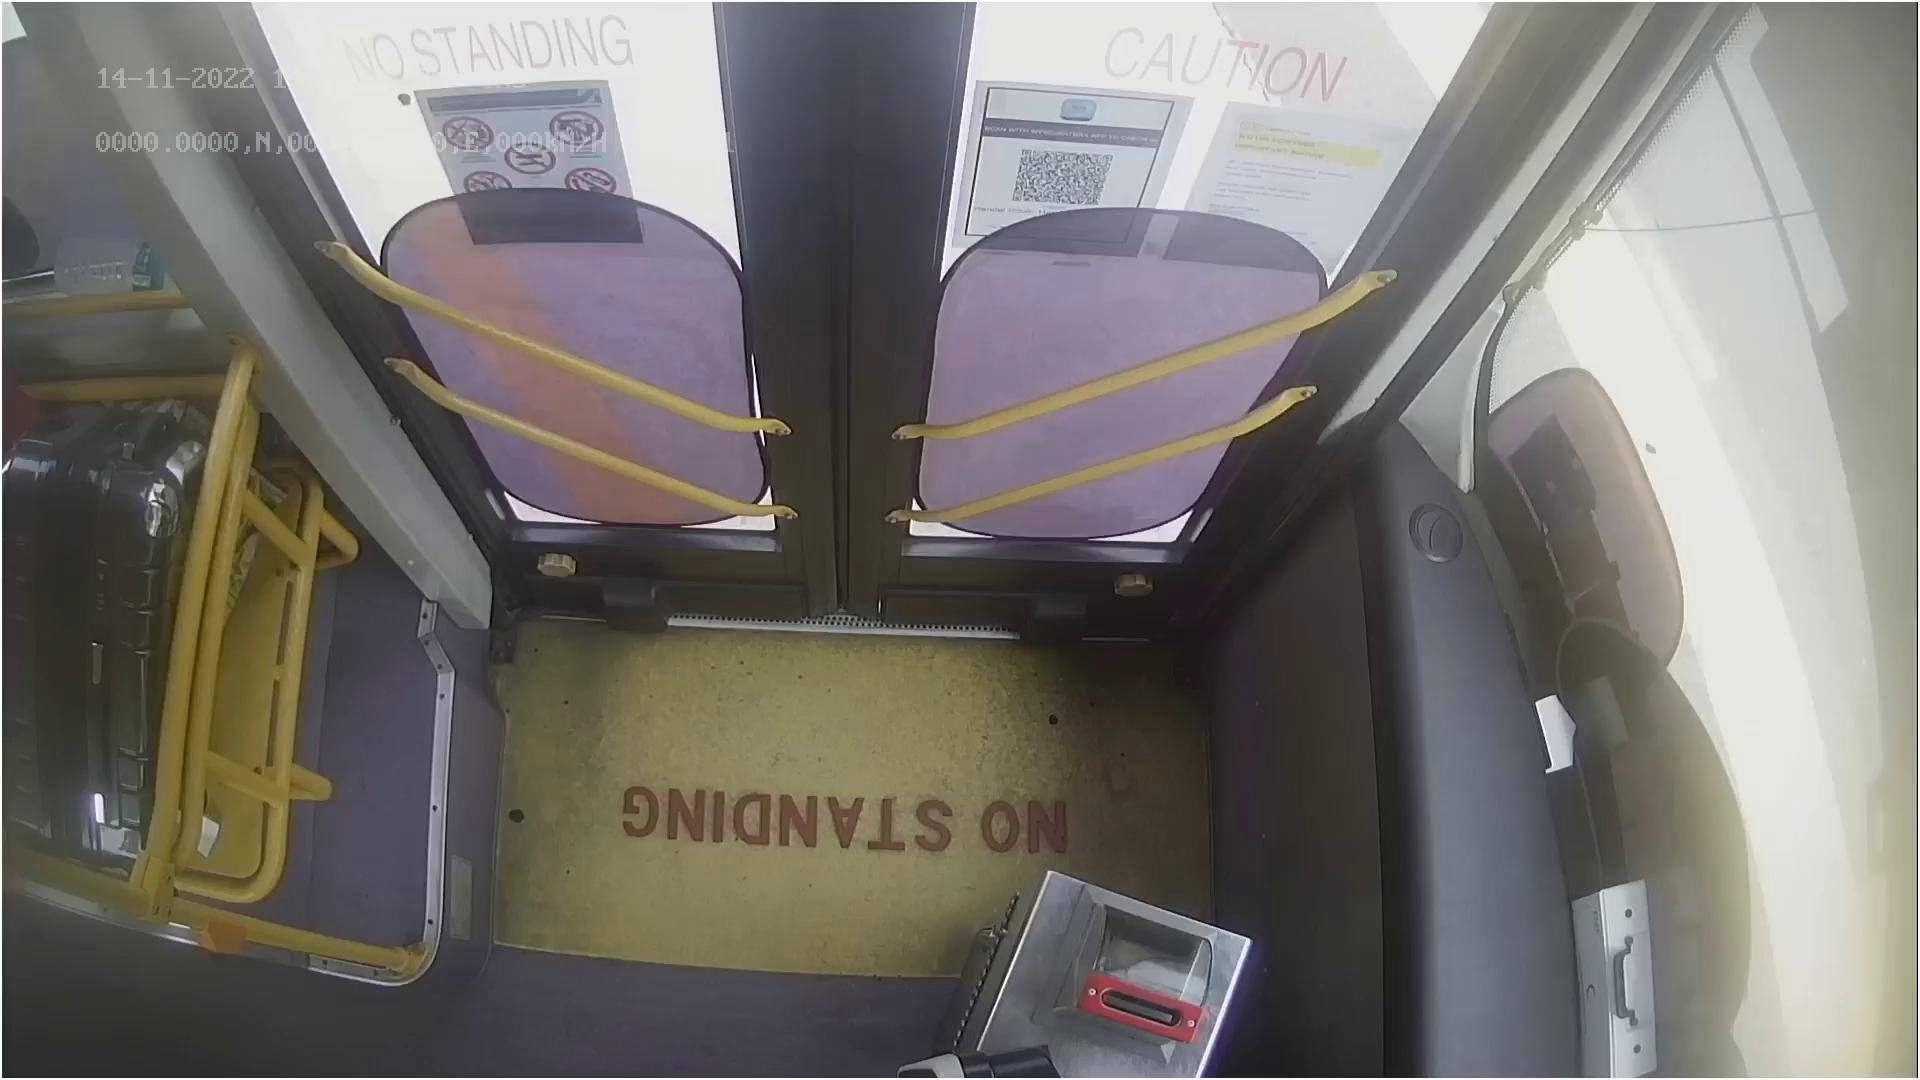close: (285, 0, 1444, 164)
